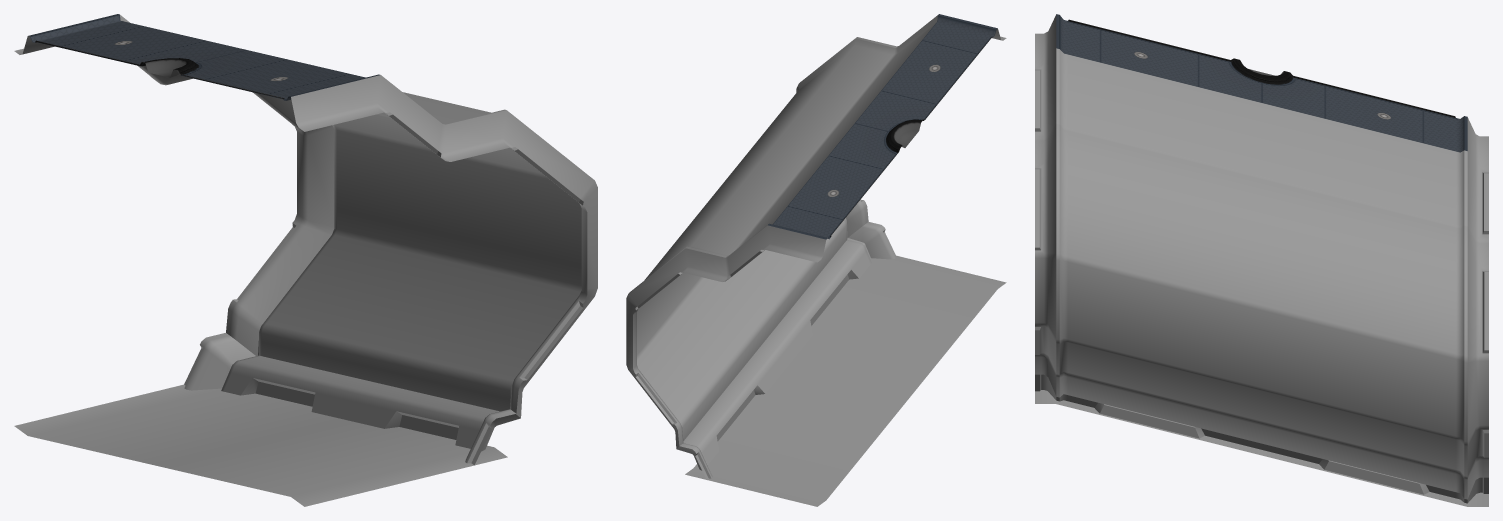
The model's file is Corr_A_4m_ramp.fbx.
3 views of the same model, side by side, from view 1: azimuth 30°, elevation 25°; view 2: azimuth 150°, elevation 25°; view 3: azimuth 270°, elevation 25° (orthographic). The views are drawn at different scales.
Parts seen in each view (by area): view 1: Corr_A_4m_ramp; view 2: Corr_A_4m_ramp; view 3: Corr_A_4m_ramp.
Boxes of the visible parts, x1,y1,x2,y2 form: Corr_A_4m_ramp: (14, 14, 597, 506); Corr_A_4m_ramp: (626, 14, 1006, 506); Corr_A_4m_ramp: (1035, 14, 1488, 506).
Size of the model in its own units: 244 by 404 by 400.
Materials: 5 (1 with a texture image).
